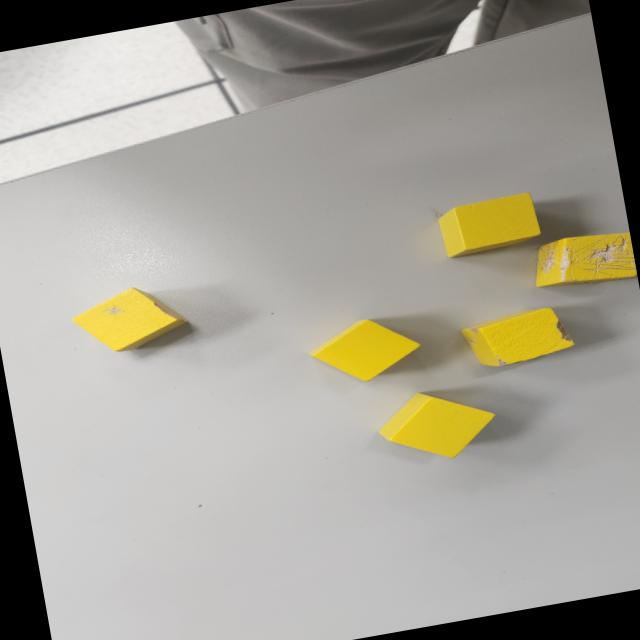broken: (66, 278, 192, 360), (457, 301, 580, 374), (528, 227, 638, 296)
yellow: (374, 380, 501, 470), (304, 310, 425, 390), (435, 192, 541, 259)
